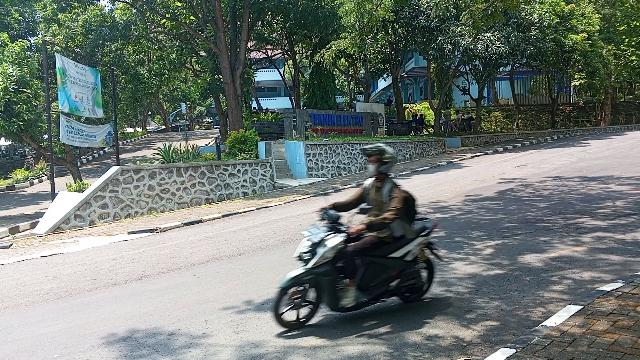helm: (361, 144, 400, 181)
motor: (271, 201, 448, 331)
